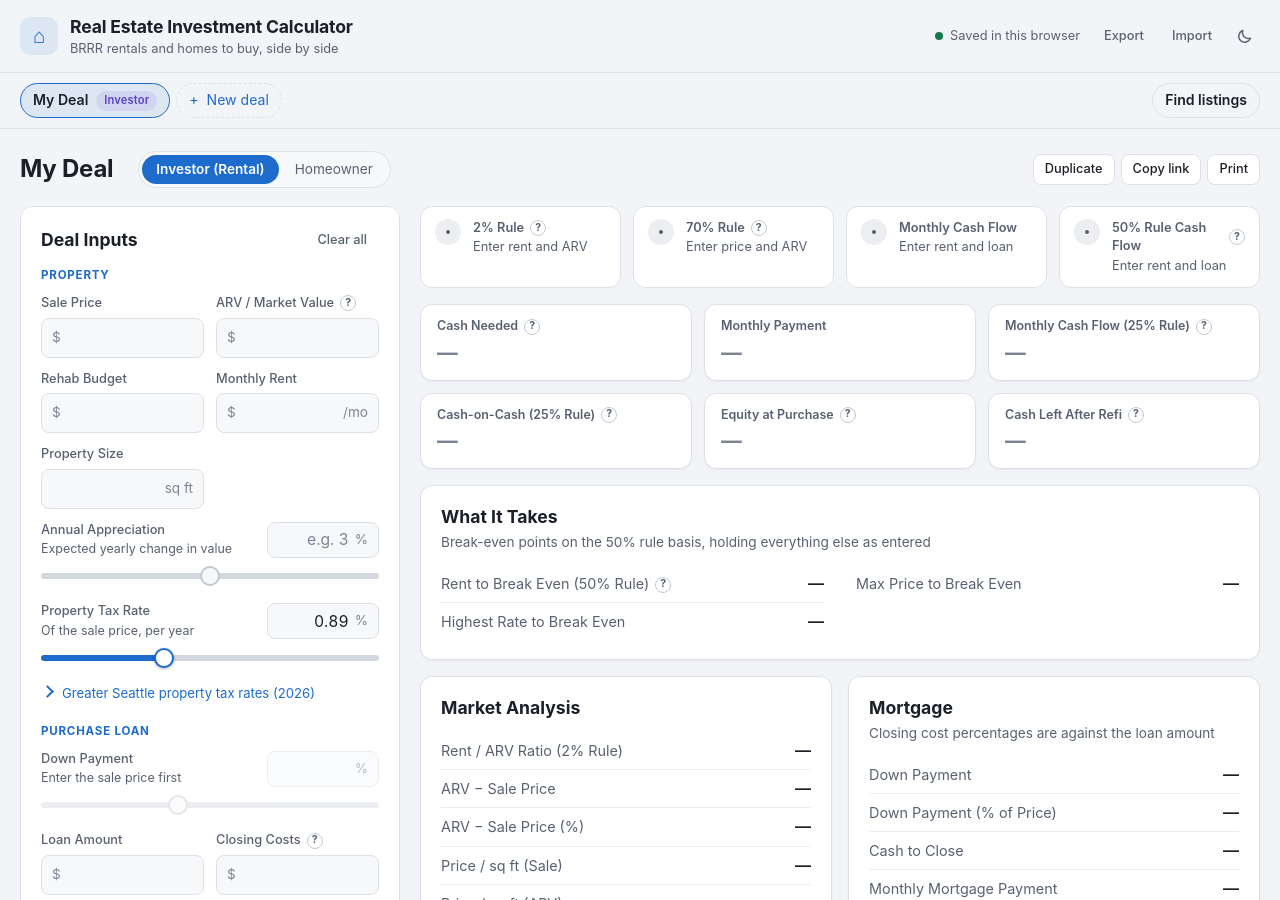
Test: App › shows what a recast saves next to keeping the payment
This screenshot has width=1280, height=900.
Type "400000" into the field labelled "Sale Price" at {"x": 130, "y": 338}, box 67,319 -> 193,357
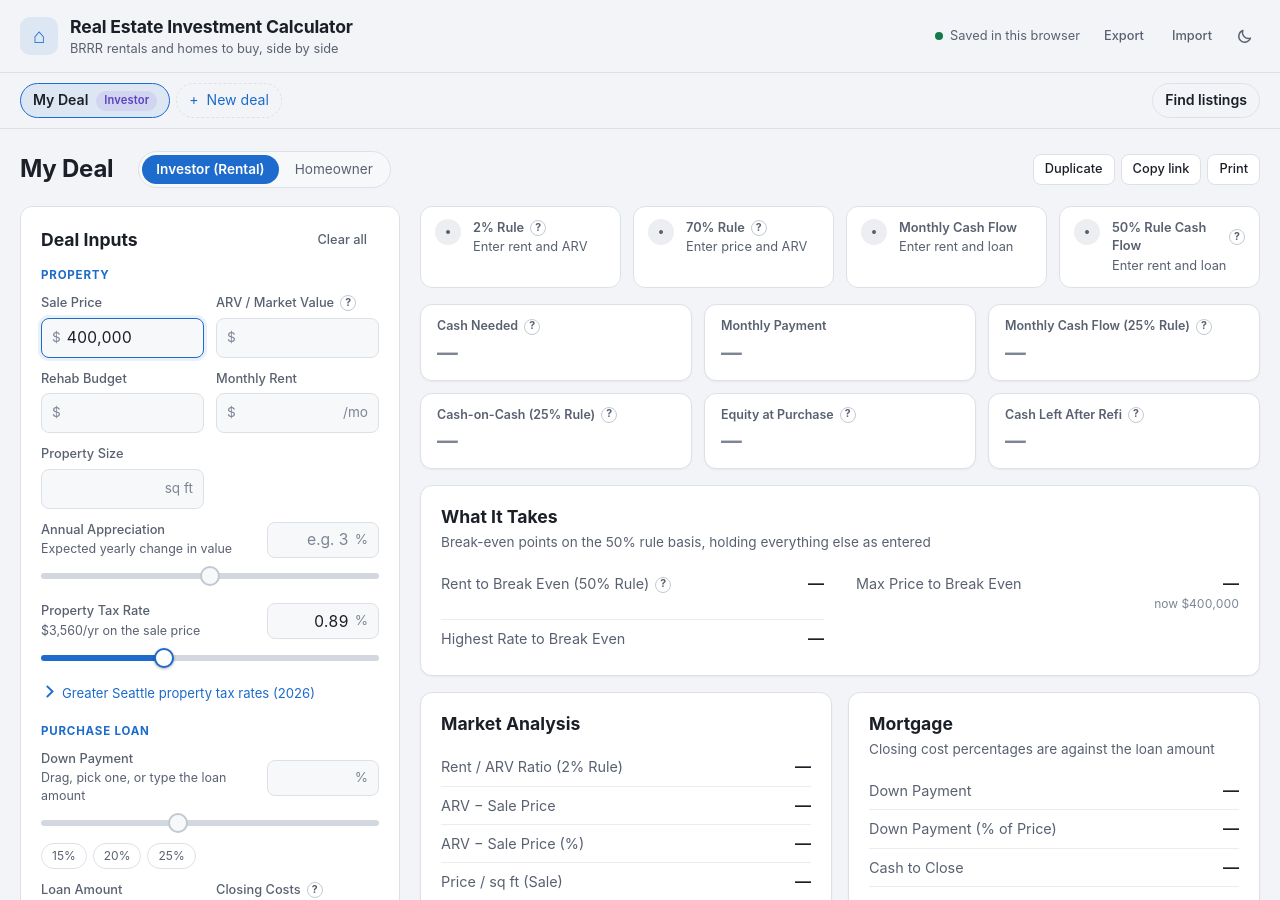
Click the button "20%" at {"x": 117, "y": 856}, box 93,844 -> 142,869
(page scrolled)
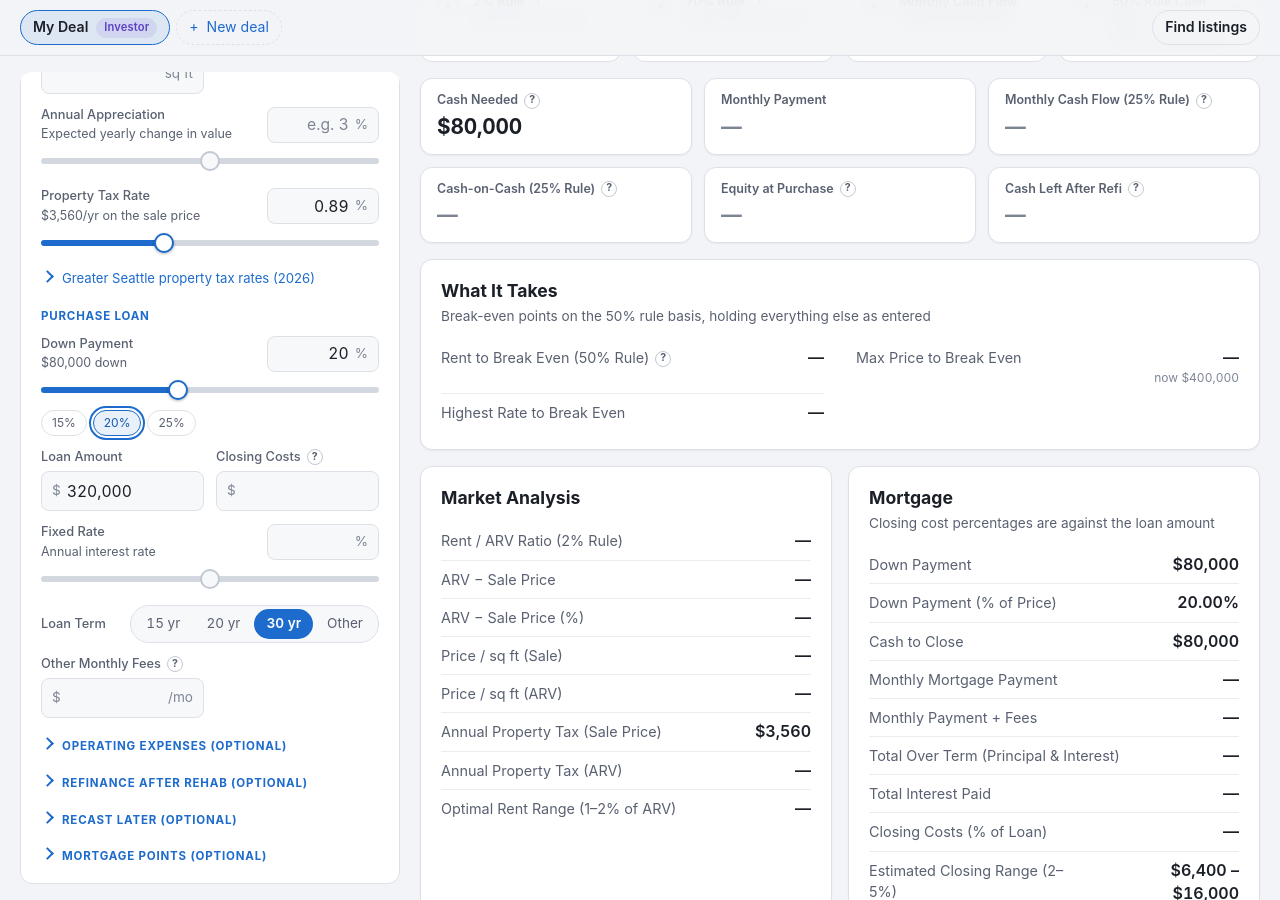
Type "6.5" into the field labelled "Fixed Rate" at {"x": 313, "y": 542}, box 278,525 -> 349,559
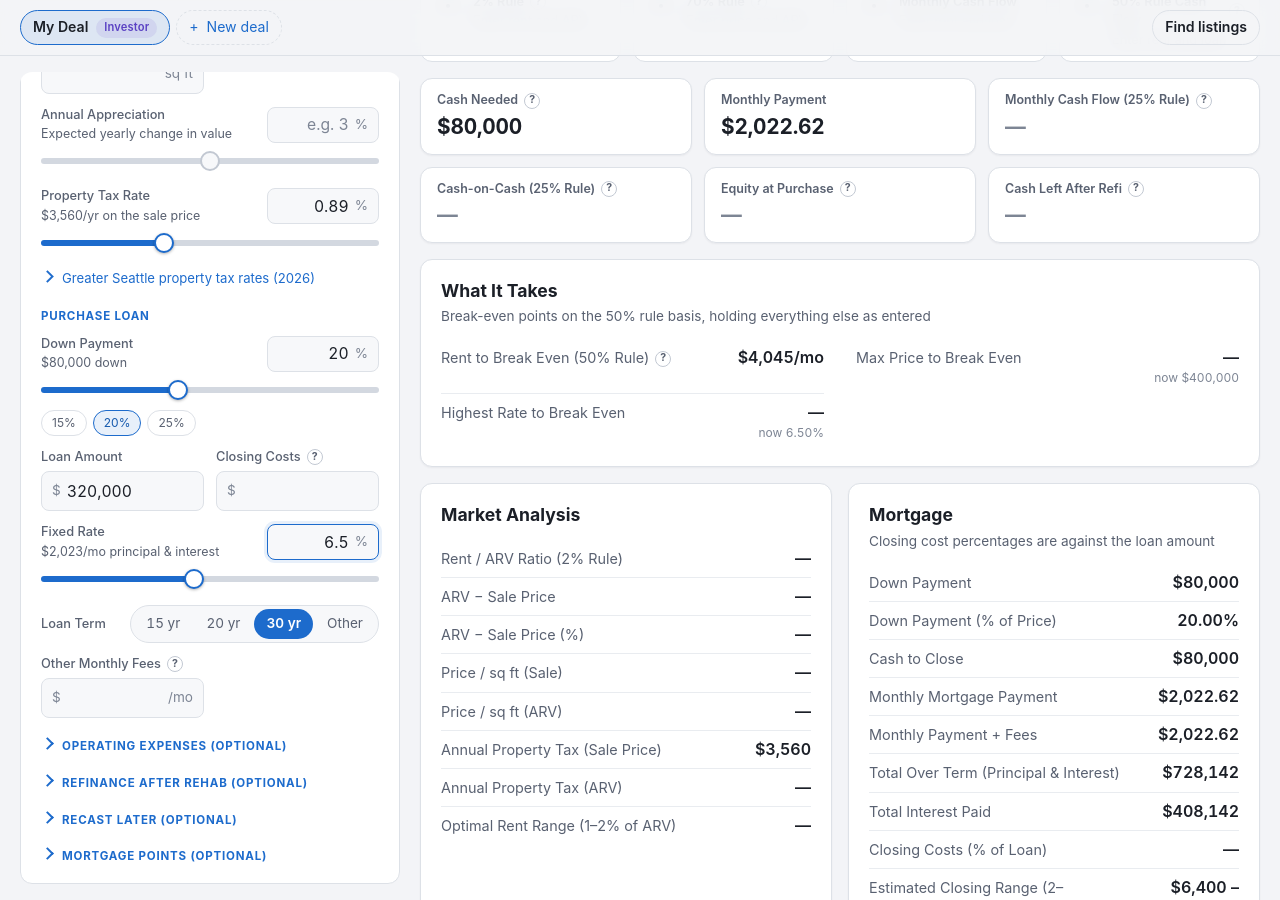
Click the heading "Recast later (optional)" at {"x": 150, "y": 820}, box 62,813 -> 237,827
(page scrolled)
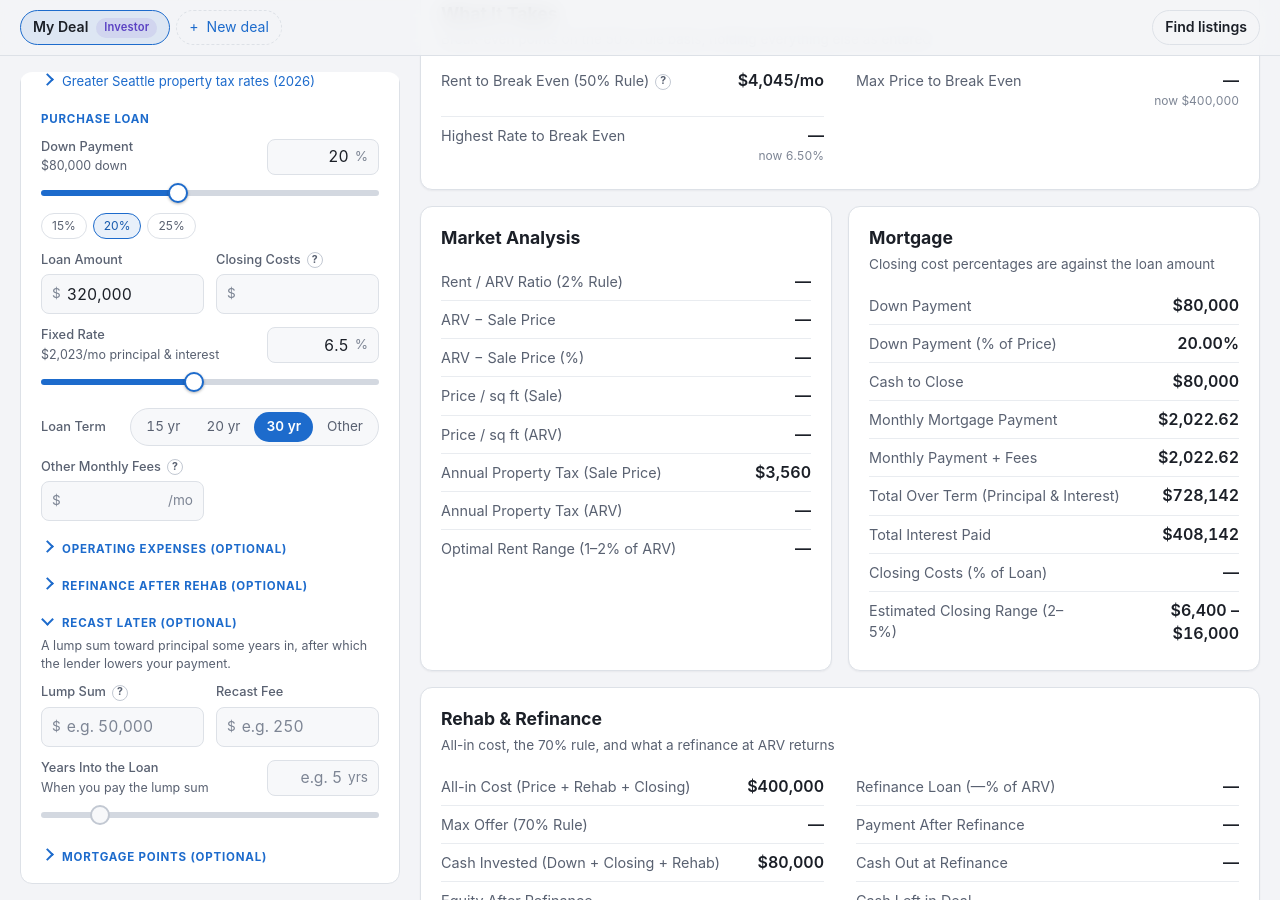
Type "50000" into the field labelled "Lump Sum" at {"x": 130, "y": 727}, box 67,708 -> 193,746
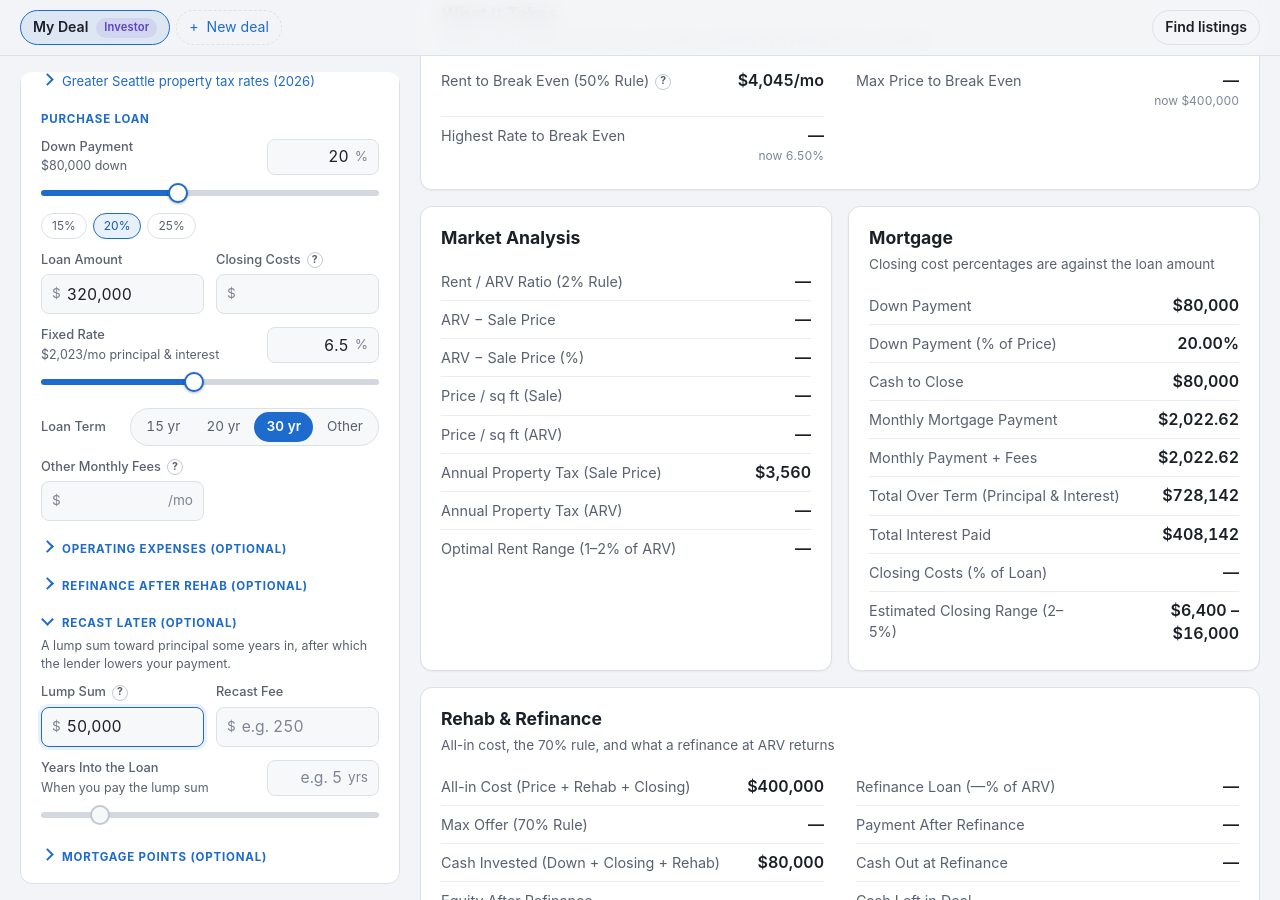
Type "5" into the field labelled "Years Into the Loan" at {"x": 310, "y": 778}, box 278,761 -> 342,795
(page scrolled)
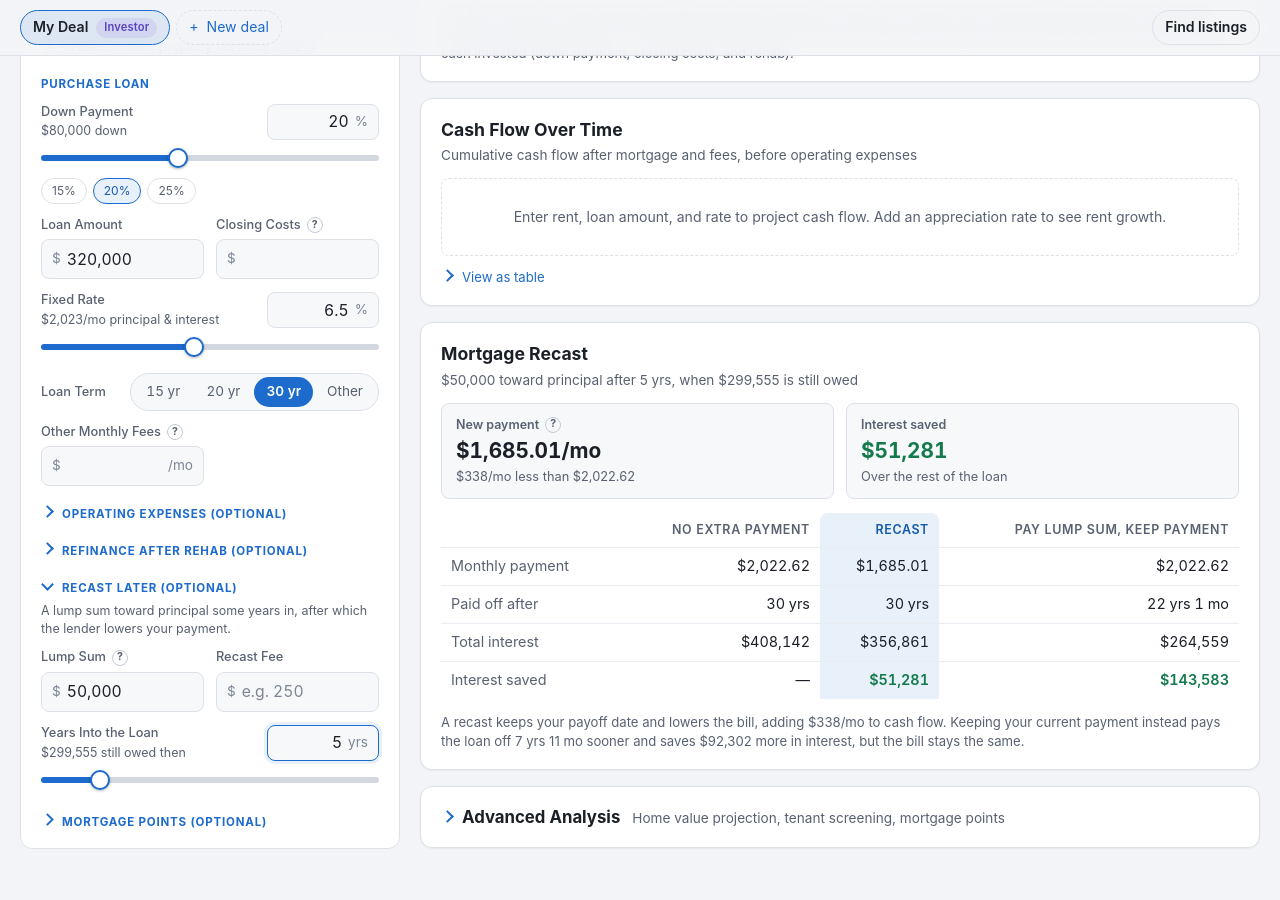
Check: the text "$299,555 still owed then" is shown, box 41,743 -> 186,761
Check: the text "$1,685.01/mo" is shown, box 456,438 -> 601,463
Check: the cells read "—", "$51,281", "$143,583", in this order, box 618,662 -> 820,699; 820,662 -> 939,699; 939,662 -> 1239,699
